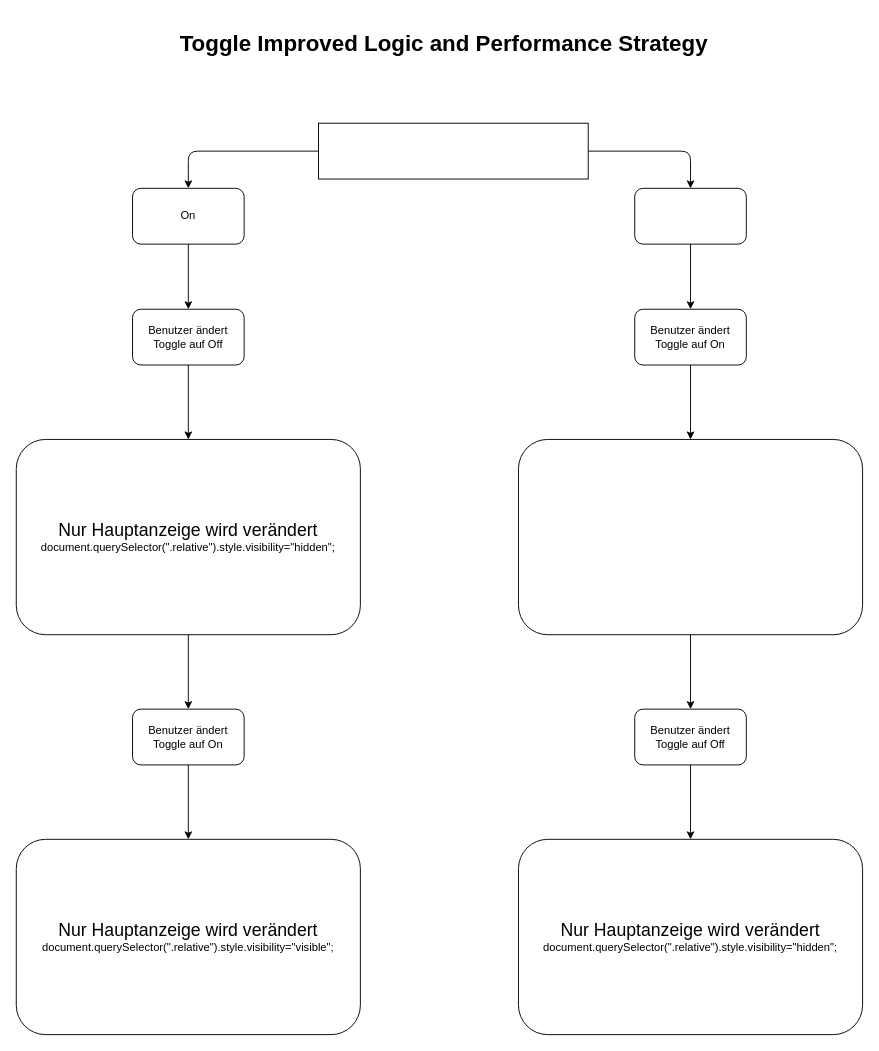
Some shapes in this 879 by 1051 pixel diagram are drawn without their labels. Each missing label, with the centre of its shape:
"Filterfunktion wird ausgeführt" belongs at (690,536).
"Off" belongs at (690,215).
"Wie standartmässig aktiviert?" belongs at (453,150).
